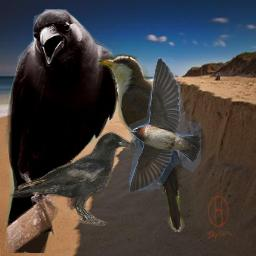Crow: (4, 9, 118, 253), (9, 131, 130, 226)
Cuckoo: (97, 54, 186, 234)
Swallow: (129, 57, 201, 193)
